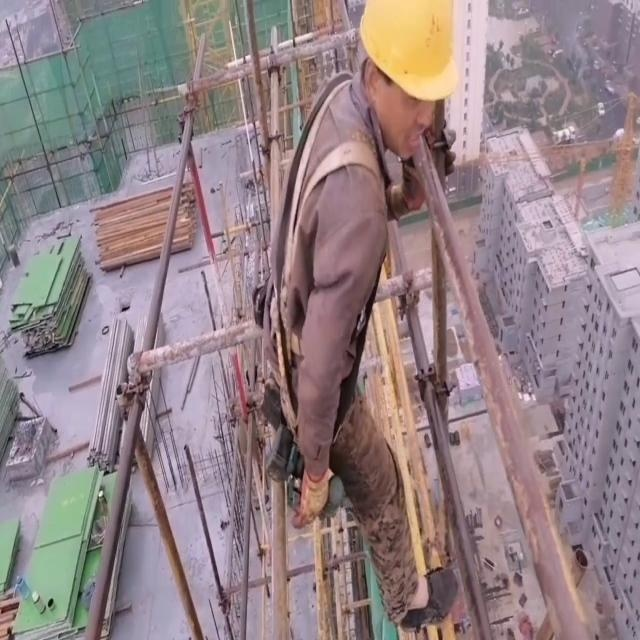Arnes_seguridad: (267, 63, 391, 378)
